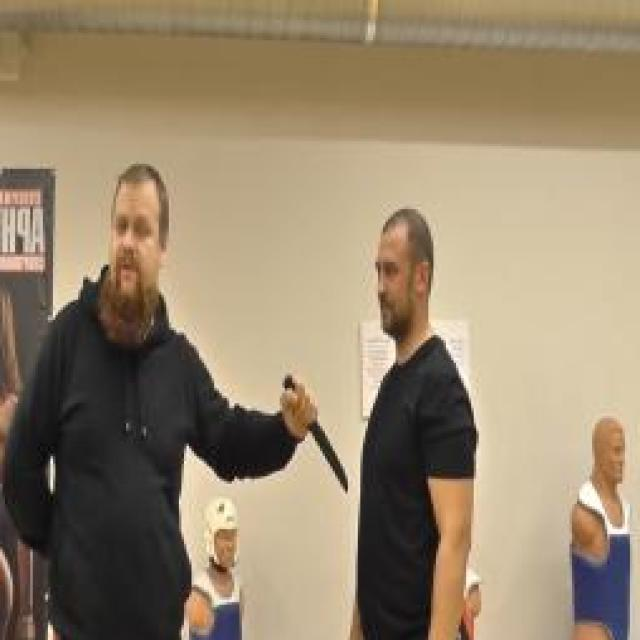knife: (280, 368, 352, 498)
